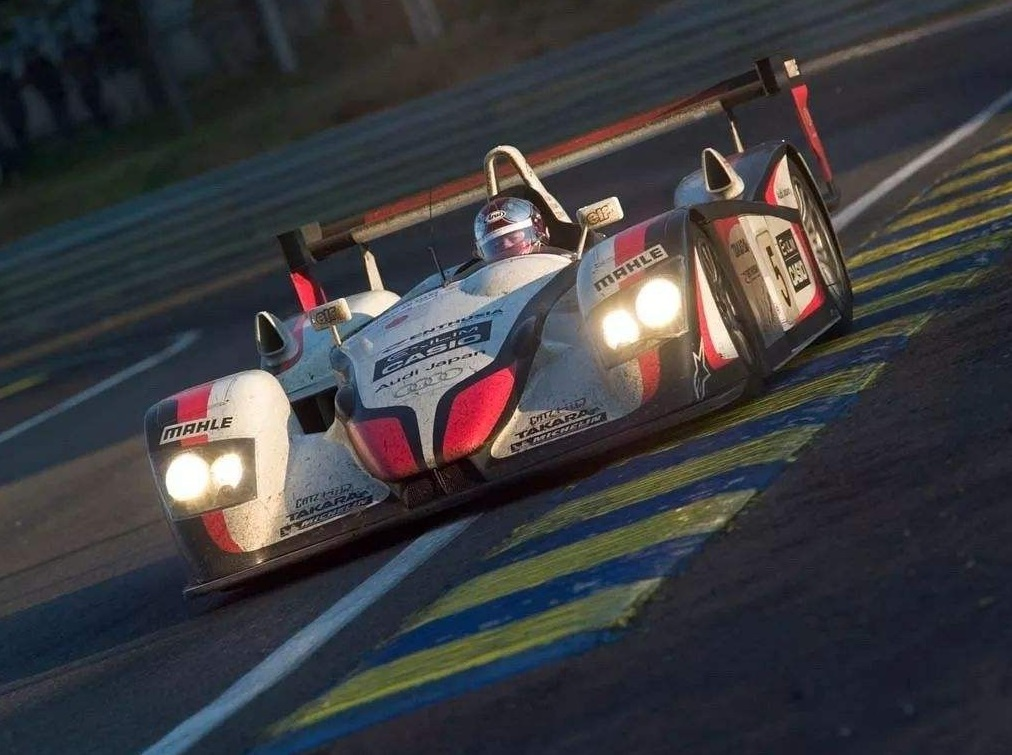racing car: (166, 95, 838, 560)
